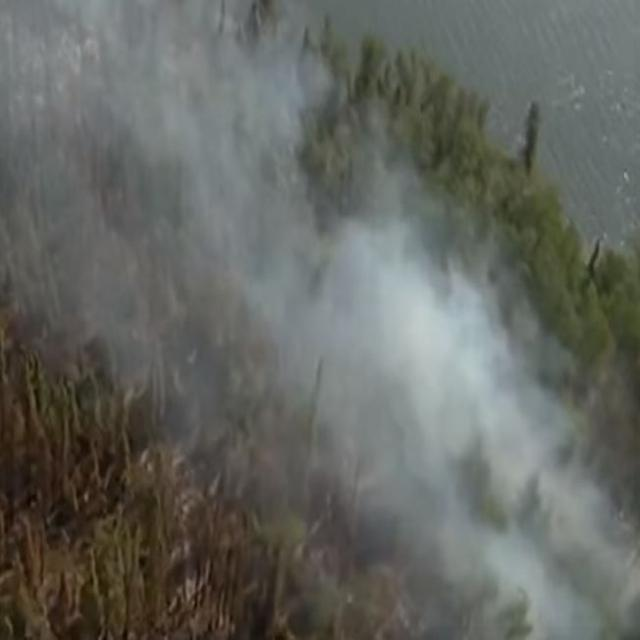Smoke: (9, 0, 634, 627)
